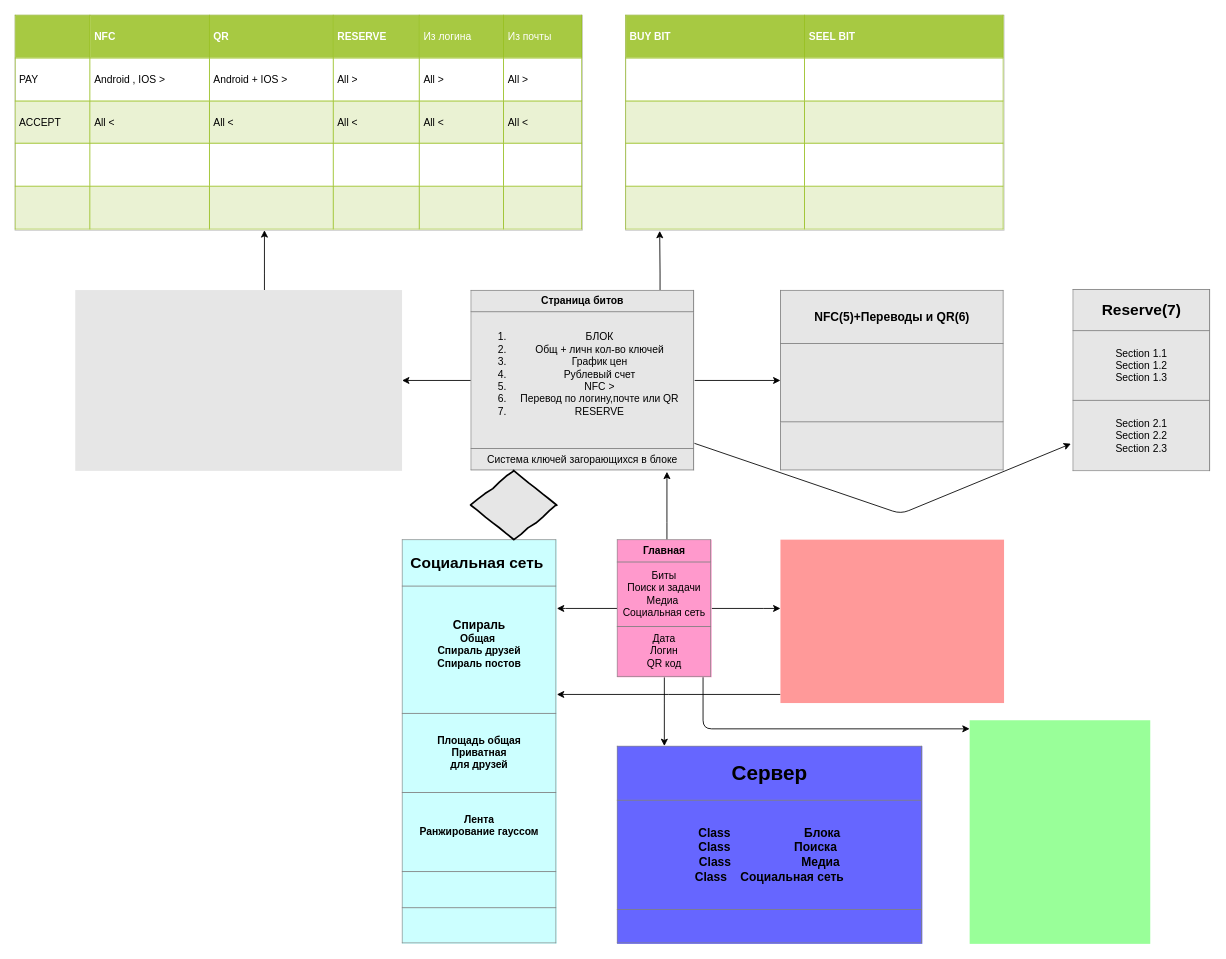
Image size: 1226x959. Some labels were removed from this diagram. The shapes that lost their labels are listed below. From the top down, each one's centre as x and y in pixels, then its label:
the point at 238,380: Блок(1) +Счета(2)+ График(3)+Рублевый счет(4) Код блока + SQL +
the point at 513,505: ID
the point at 892,621: Медиа Аудио Видео
the point at 1059,831: Поиск ZAlupoi Решебник N.I.G.G.E.R. Компилятор
